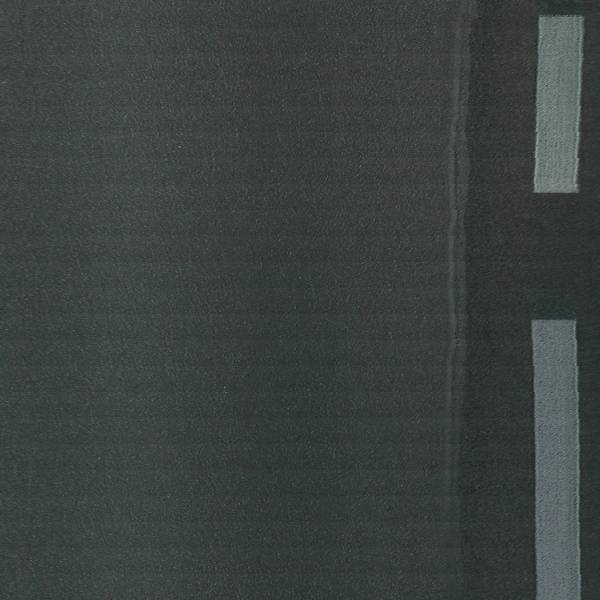road_damage: (441, 44, 488, 575)
